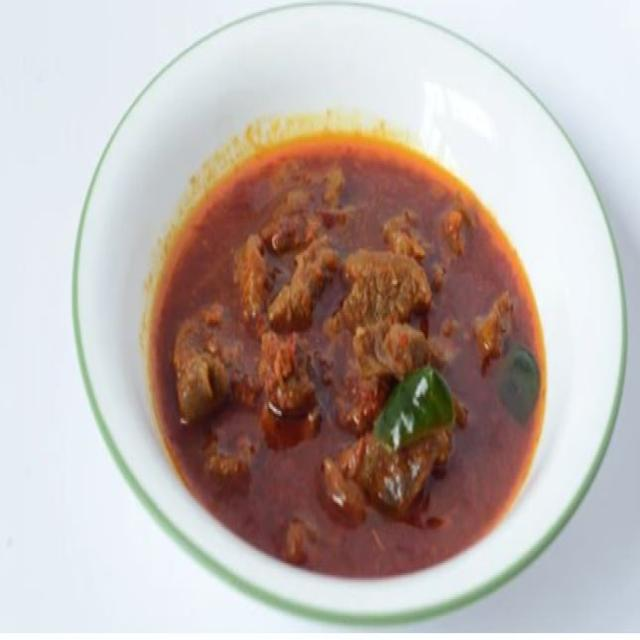kamouniya: (122, 54, 601, 571)
